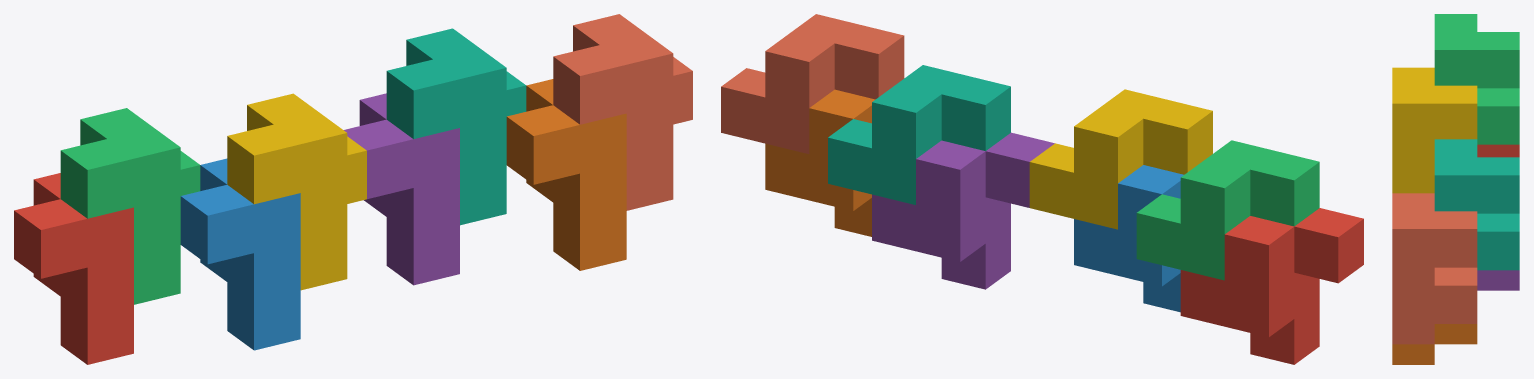
The model's file is tiling.obj.
3 views of the same model, side by side, from view 1: azimuth 30°, elevation 25°; view 2: azimuth 150°, elevation 25°; view 3: azimuth 270°, elevation 25° (orthographic). The views are drawn at different scales.
Visible parts, largest first — view 1: copy_1_domain_8, copy_1_domain_4, copy_1_domain_3, copy_1_domain_7, copy_1_domain_2, copy_1_domain_6, copy_1_domain_1, copy_1_domain_5; view 2: copy_1_domain_1, copy_1_domain_5, copy_1_domain_3, copy_1_domain_8, copy_1_domain_7, copy_1_domain_4, copy_1_domain_6, copy_1_domain_2; view 3: copy_1_domain_8, copy_1_domain_7, copy_1_domain_3, copy_1_domain_4, copy_1_domain_6, copy_1_domain_5, copy_1_domain_1.
Boxes of the visible parts, x1=… form: copy_1_domain_8: x1=553, y1=14, x2=692, y2=210; copy_1_domain_4: x1=227, y1=93, x2=366, y2=290; copy_1_domain_3: x1=60, y1=108, x2=200, y2=304; copy_1_domain_7: x1=386, y1=28, x2=526, y2=225; copy_1_domain_2: x1=180, y1=158, x2=300, y2=350; copy_1_domain_6: x1=506, y1=79, x2=626, y2=270; copy_1_domain_1: x1=14, y1=173, x2=133, y2=364; copy_1_domain_5: x1=344, y1=93, x2=459, y2=285; copy_1_domain_1: x1=1180, y1=208, x2=1363, y2=364; copy_1_domain_5: x1=872, y1=132, x2=1054, y2=289; copy_1_domain_3: x1=1136, y1=140, x2=1319, y2=280; copy_1_domain_8: x1=721, y1=14, x2=904, y2=153; copy_1_domain_7: x1=828, y1=65, x2=1010, y2=204; copy_1_domain_4: x1=1029, y1=89, x2=1212, y2=229; copy_1_domain_6: x1=765, y1=89, x2=875, y2=236; copy_1_domain_2: x1=1074, y1=165, x2=1183, y2=312; copy_1_domain_8: x1=1392, y1=193, x2=1477, y2=344; copy_1_domain_7: x1=1434, y1=139, x2=1519, y2=270; copy_1_domain_3: x1=1434, y1=14, x2=1519, y2=144; copy_1_domain_4: x1=1392, y1=67, x2=1477, y2=193; copy_1_domain_6: x1=1392, y1=324, x2=1477, y2=364; copy_1_domain_5: x1=1477, y1=270, x2=1519, y2=290; copy_1_domain_1: x1=1477, y1=144, x2=1519, y2=157.
Size of the model in its own units: 14 by 4 by 3.
